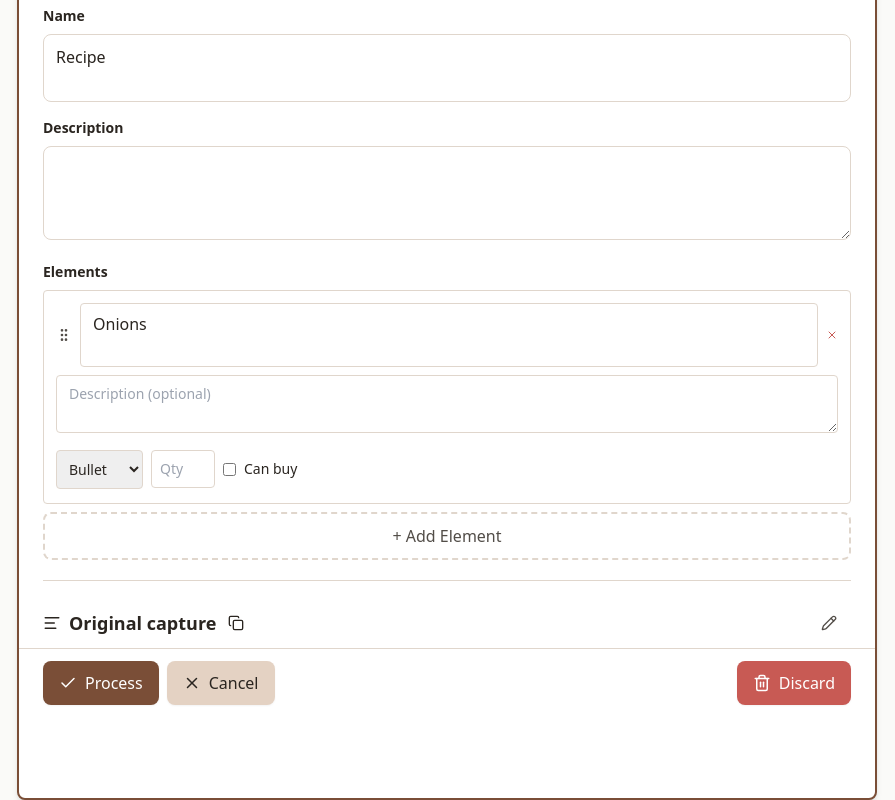
the element editor › offers Can buy on a bullet and not on a step
The image size is (895, 800).
(page scrolled)
Expected: the text "Can buy" is shown, [244,459,297,479]
Select "Step" in the dropdown named "Element type": x=100, y=469 [56,450,143,488]
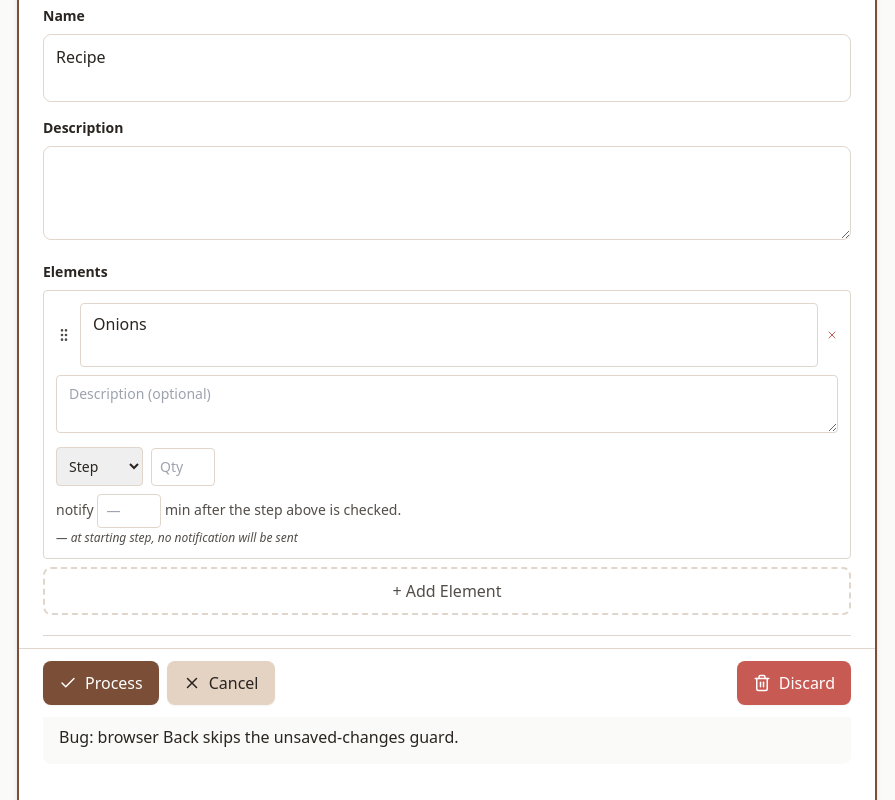
Now the text "Can buy" is gone
